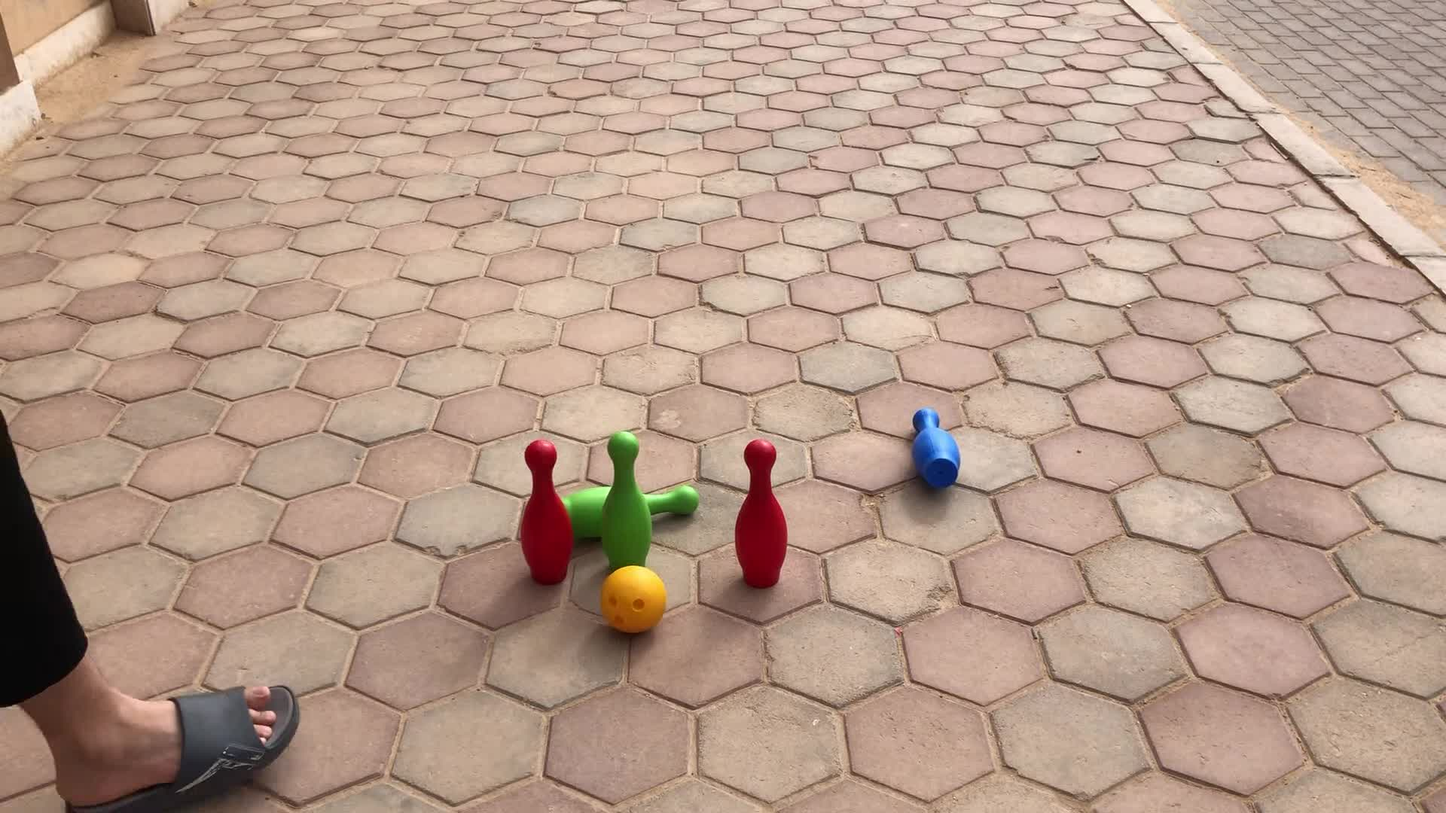bowling-pin: (735, 439, 787, 587), (520, 440, 573, 585), (602, 432, 651, 569), (913, 409, 961, 493), (563, 486, 609, 543)
